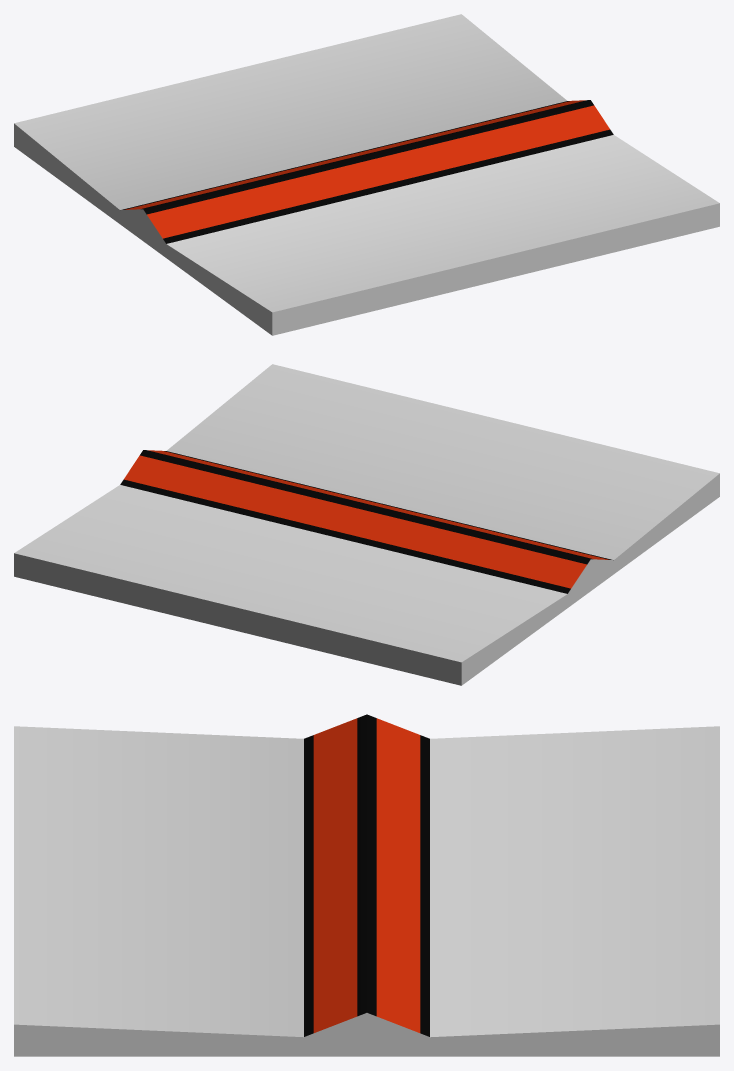
File: Plafond_Labo_6x6.FBX
The picture shows the model from 3 angles, top to bottom: view 1: azimuth 30°, elevation 25°; view 2: azimuth 150°, elevation 25°; view 3: azimuth 270°, elevation 25°; orthographic projection. The views are drawn at different scales.
Visible parts, largest first — view 1: Box006; view 2: Box006; view 3: Box006.
Part boxes in pixels (x1=…): Box006: x1=14, y1=14, x2=719, y2=335; Box006: x1=14, y1=364, x2=719, y2=685; Box006: x1=14, y1=714, x2=719, y2=1056.
Bounding box in the file's own units: 6 × 0.411 × 6.
